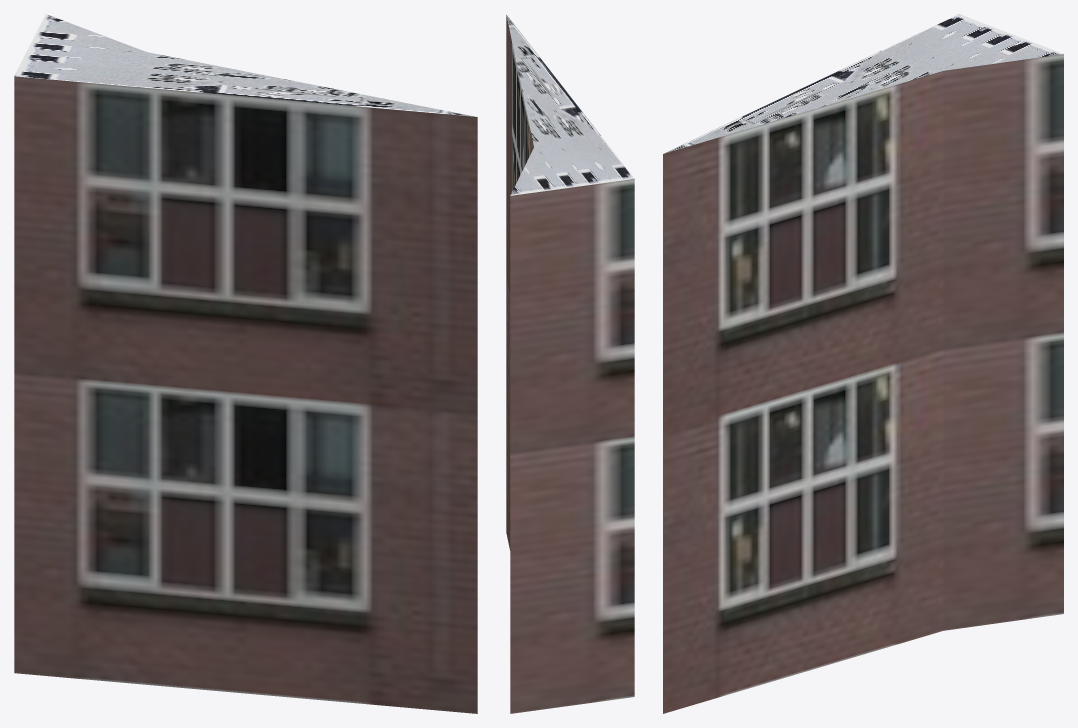
Rendered from ResTex__4234.fbx.
The picture shows the model from 3 angles, left to right: view 1: azimuth 30°, elevation 25°; view 2: azimuth 150°, elevation 25°; view 3: azimuth 270°, elevation 25°; orthographic projection. The views are drawn at different scales.
Visible parts, largest first — view 1: CityEngineMaterial_12_m, CityEngineMaterial_8_m; view 2: CityEngineMaterial_12_m, CityEngineMaterial_8_m; view 3: CityEngineMaterial_12_m, CityEngineMaterial_8_m.
Boxes of the visible parts, x1=… form: CityEngineMaterial_12_m: x1=14, y1=76, x2=477, y2=713; CityEngineMaterial_8_m: x1=14, y1=14, x2=475, y2=116; CityEngineMaterial_12_m: x1=506, y1=15, x2=634, y2=713; CityEngineMaterial_8_m: x1=506, y1=14, x2=634, y2=195; CityEngineMaterial_12_m: x1=663, y1=54, x2=1063, y2=713; CityEngineMaterial_8_m: x1=664, y1=14, x2=1062, y2=153.
Bounding box in the file's own units: 3.22 × 6 × 3.89.
2 materials, 2 textured.
